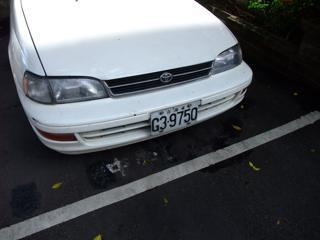plate: (148, 105, 197, 132)
